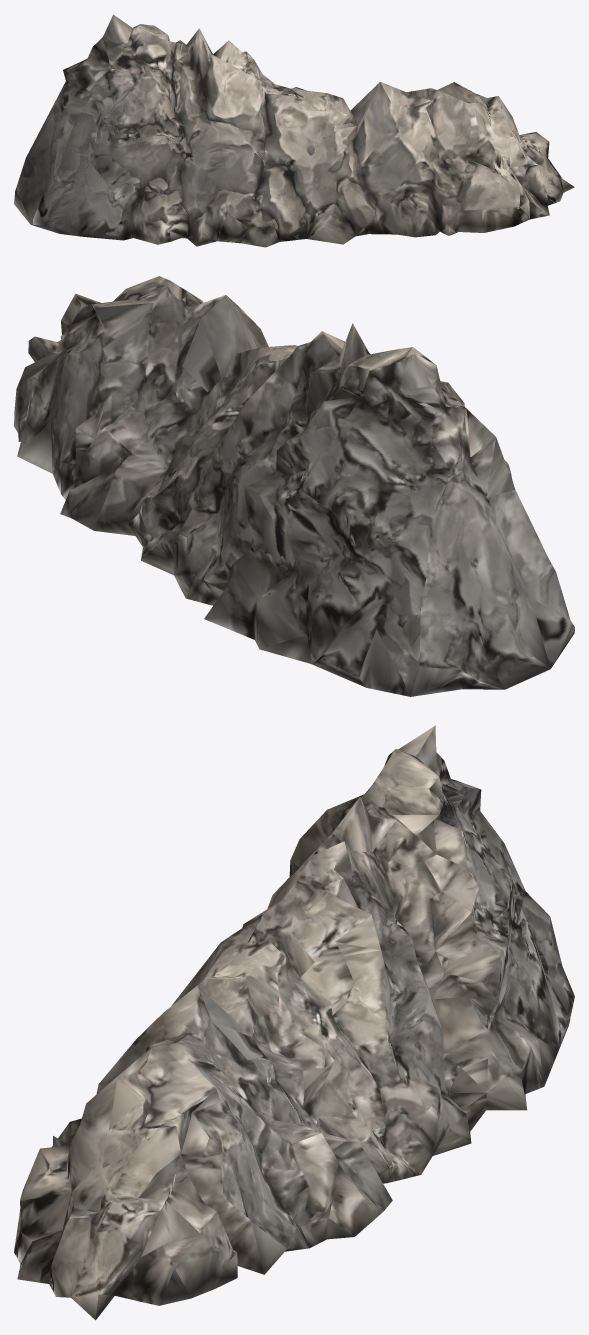
The model's file is ridge_a_lod2.glb.
3 renders of one model, top to bottom at view 1: azimuth 30°, elevation 25°; view 2: azimuth 150°, elevation 25°; view 3: azimuth 270°, elevation 25°, orthographic. The views are drawn at different scales.
Parts seen in each view (by area): view 1: ridge_a_lod2; view 2: ridge_a_lod2; view 3: ridge_a_lod2.
Part boxes in pixels (<box>): ridge_a_lod2: <box>14,14,574,247</box>; ridge_a_lod2: <box>14,276,574,696</box>; ridge_a_lod2: <box>14,725,574,1320</box>.
Bounding box in the file's own units: 39.34 × 15.83 × 26.03.
Materials: 1 (1 with a texture image).
